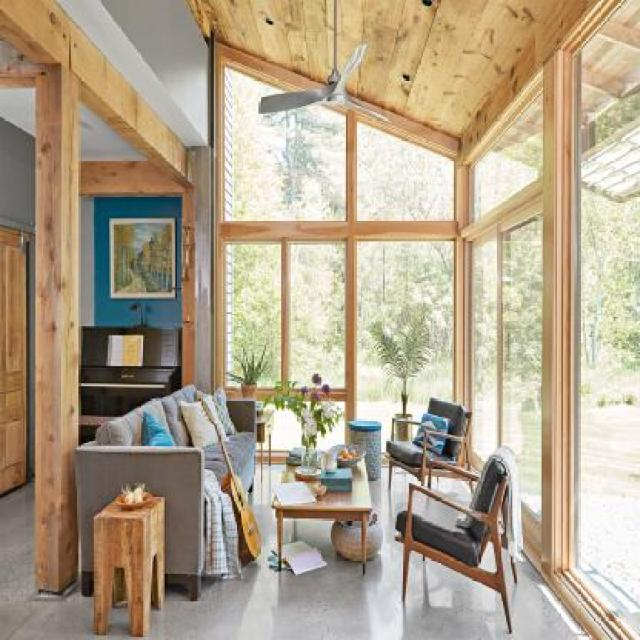floor: (0, 480, 413, 640), (408, 551, 508, 637), (506, 547, 594, 639), (369, 539, 400, 594)
